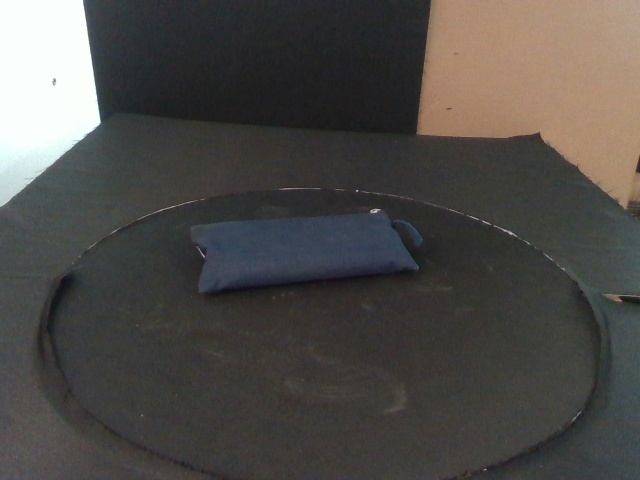pencil_case: (190, 210, 421, 295)
